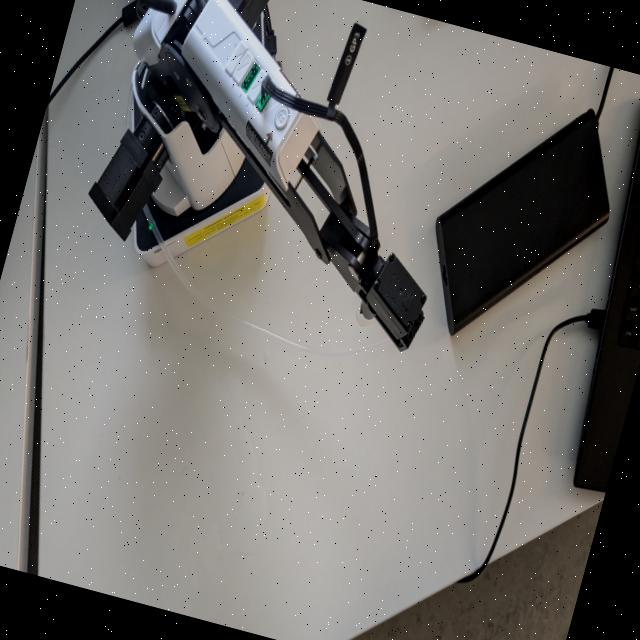Robot-end-effector-HF8z: (338, 240, 443, 360)
